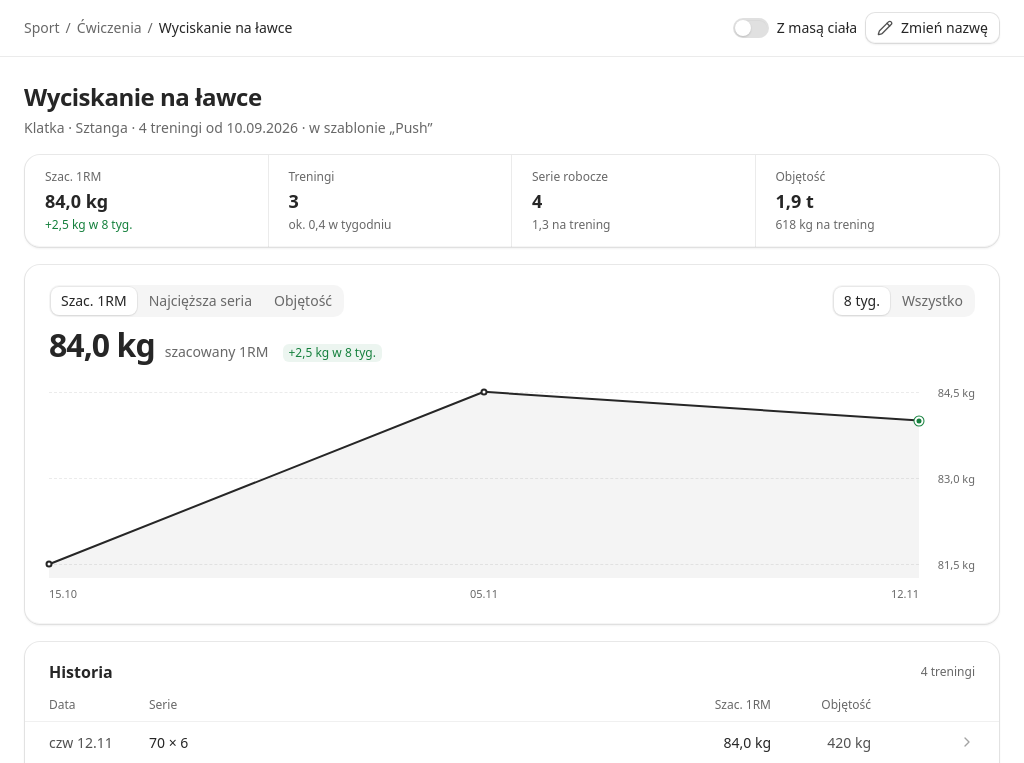
Scenario: ExerciseDetail › „Zmień nazwę” pokazuje błąd duplikatu i zostawia okno otwarte
Click the button "Zmień nazwę". click: [933, 28]
box: x1=865 y1=12 x2=1000 y2=44
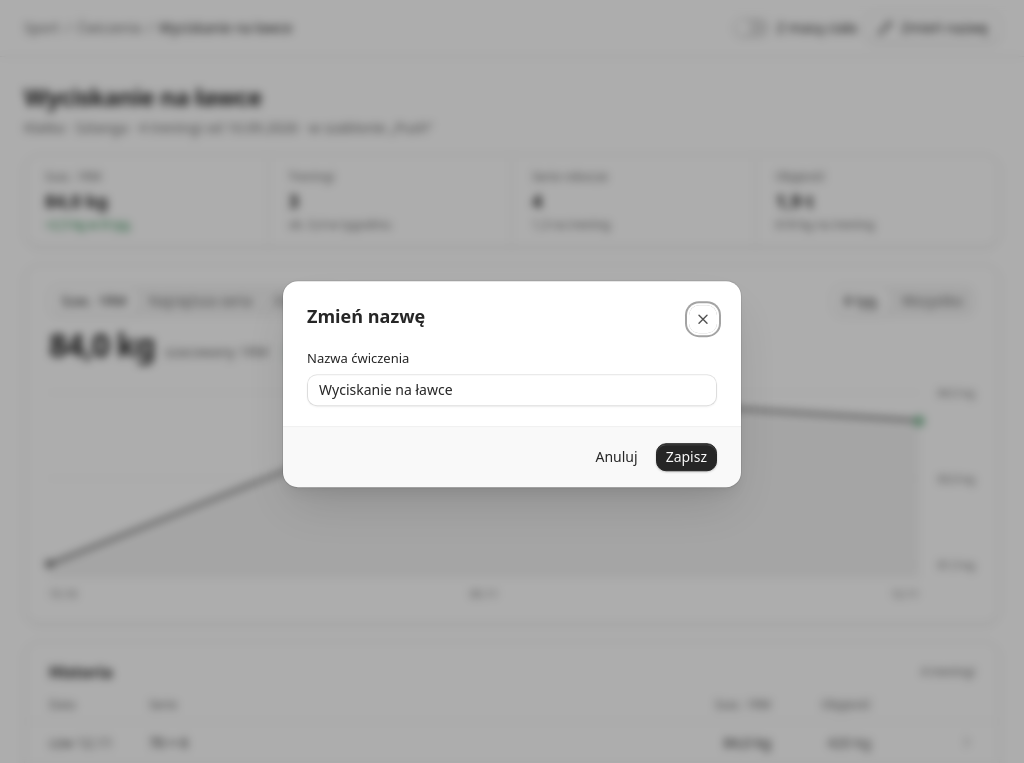
Replace the text in the field labelled "Nazwa ćwiczenia" with "Przysiad". click: [512, 390]
box: x1=307 y1=374 x2=717 y2=406
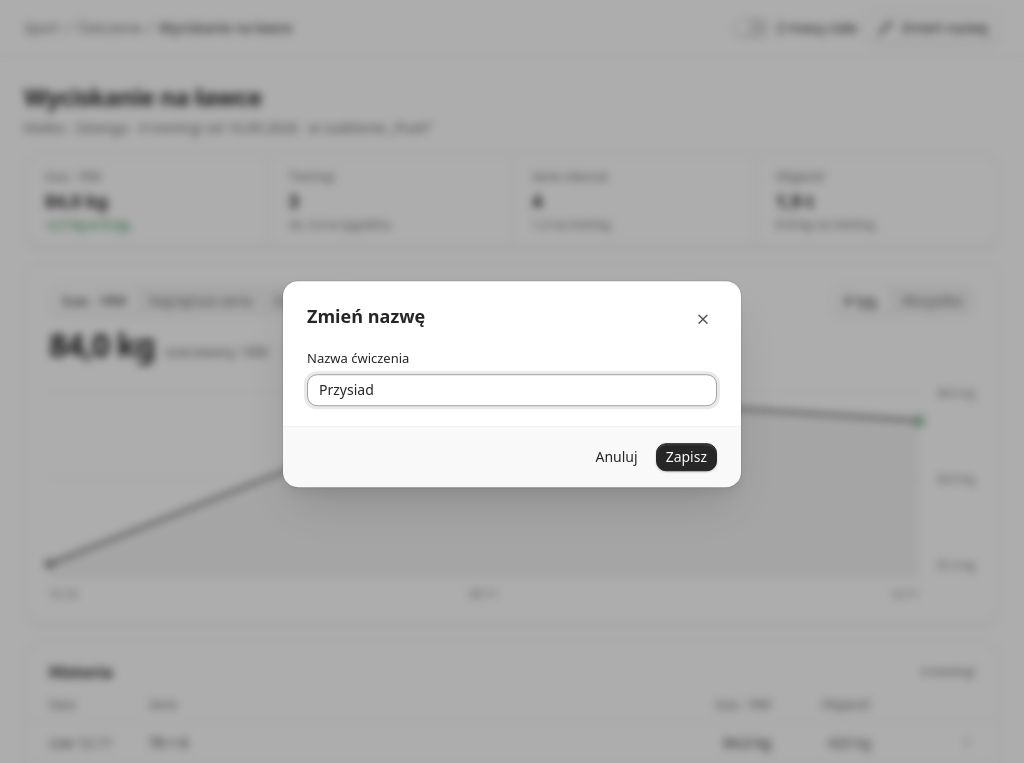
Click the button "Zapisz". click: [686, 457]
box: x1=656 y1=443 x2=717 y2=471
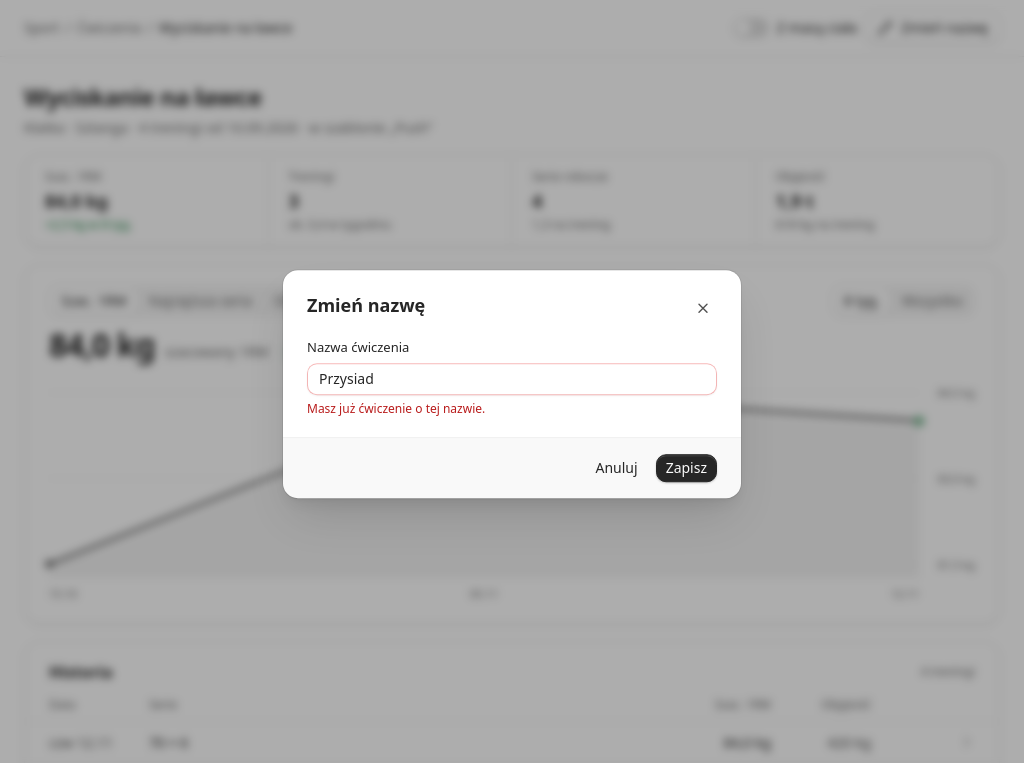
Expected: the dialog is shown, x1=282 y1=269 x2=742 y2=499
Expected: the text "Masz już ćwiczenie o tej nazwie." is shown, x1=307 y1=400 x2=485 y2=417
